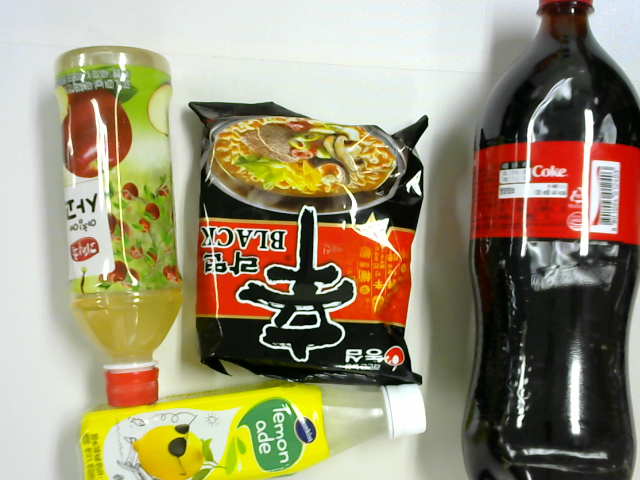Coca_Cola_1.5L: (460, 1, 638, 477)
Morning_Apple_500ml: (53, 46, 186, 408)
Sinramen_Black: (187, 101, 430, 385)
Sunkist_Lemonaid_Pet: (74, 383, 427, 480)
